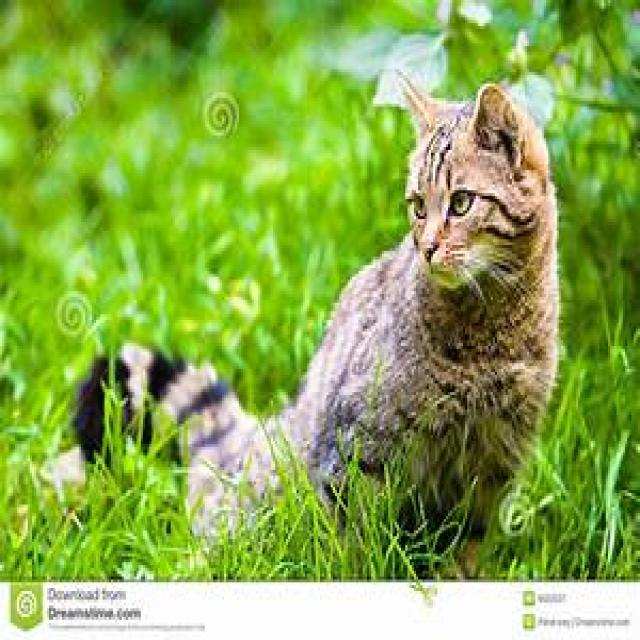cat: (49, 66, 561, 571)
